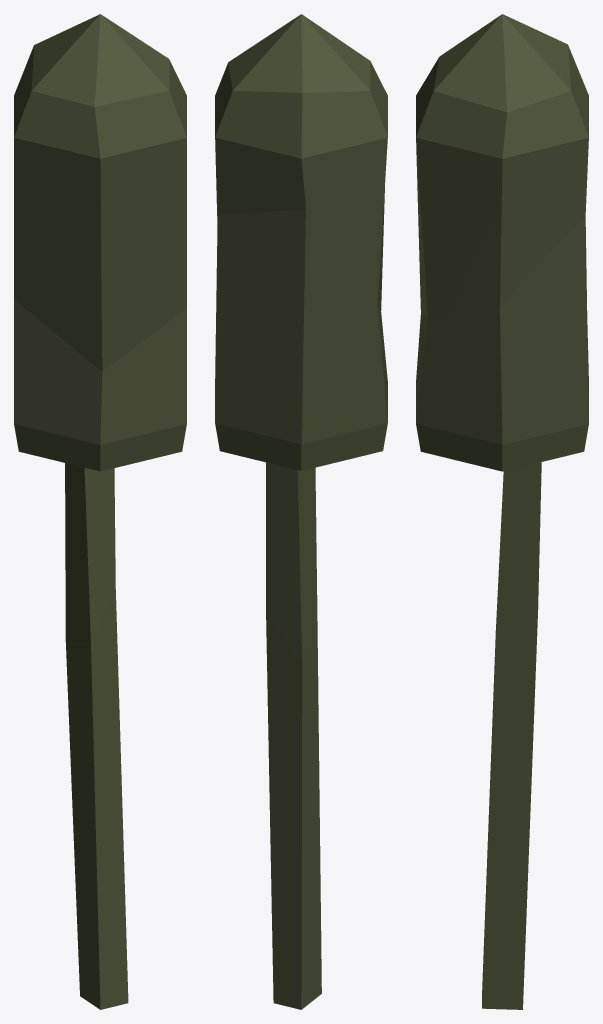
File: kingdom_SM_Prop_Fireworks_04.gltf
The picture shows the model from 3 angles, left to right: view 1: azimuth 30°, elevation 25°; view 2: azimuth 150°, elevation 25°; view 3: azimuth 270°, elevation 25°; orthographic projection.
Visible parts, largest first — view 1: SM_Prop_Fireworks_04; view 2: SM_Prop_Fireworks_04; view 3: SM_Prop_Fireworks_04.
Boxes of the visible parts, x1,y1,x2,y2 form: SM_Prop_Fireworks_04: (14, 14, 186, 1009); SM_Prop_Fireworks_04: (215, 14, 387, 1009); SM_Prop_Fireworks_04: (416, 14, 588, 1009).
Bounding box in the file's own units: 0.1183 × 0.6454 × 0.1025.
Materials: 1 (1 with a texture image).
